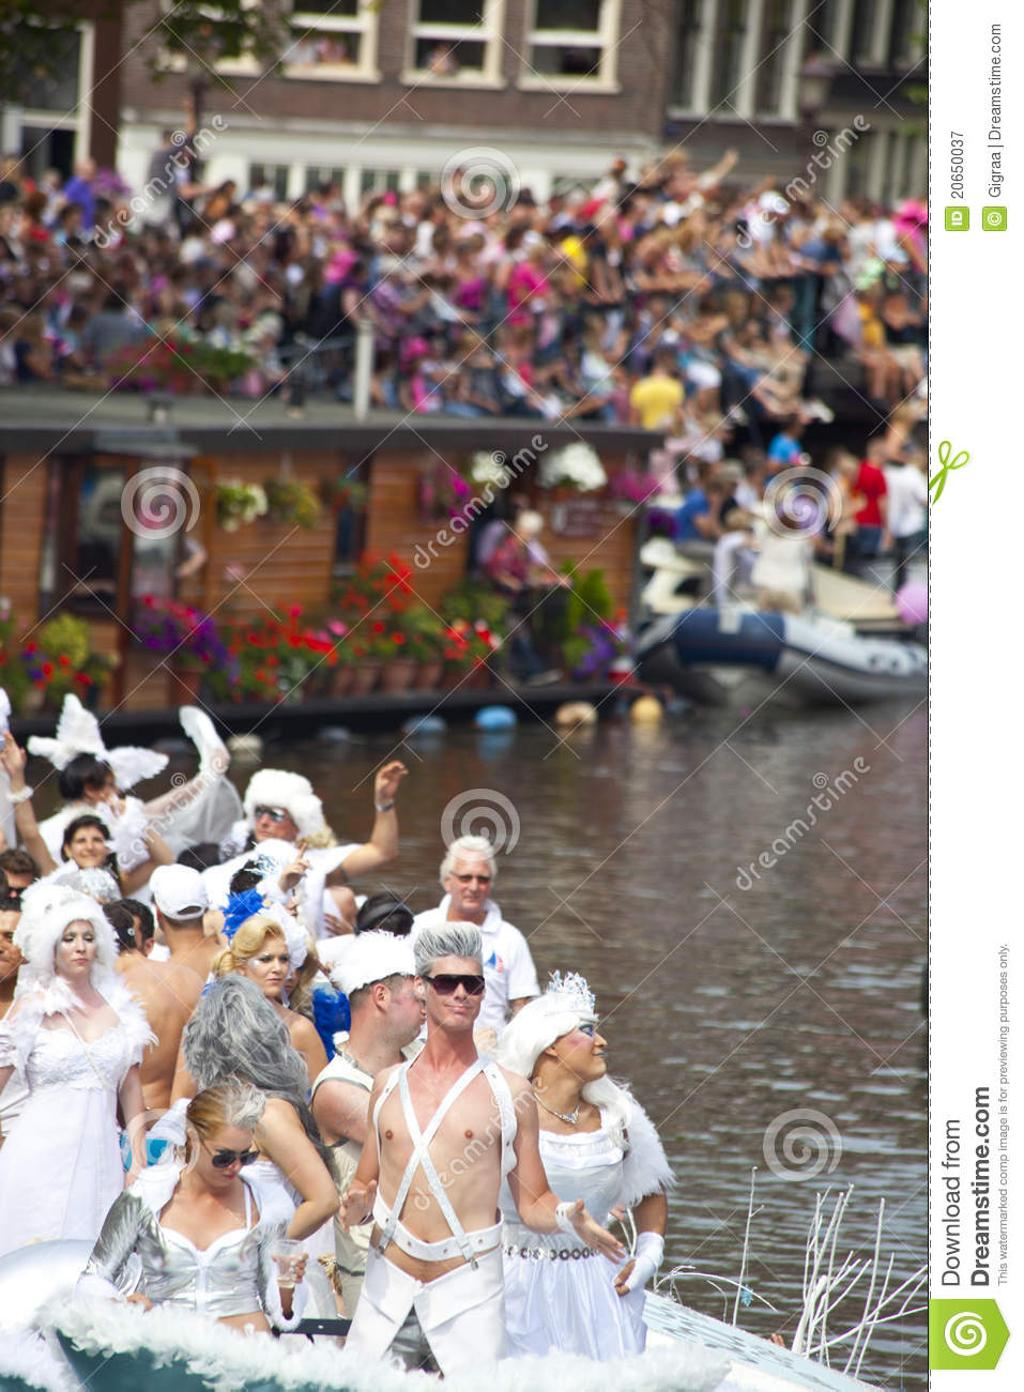face: (424, 960, 482, 1029), (548, 1015, 607, 1077), (379, 968, 428, 1039), (198, 1132, 250, 1186), (244, 937, 287, 994), (51, 920, 94, 973), (103, 917, 143, 968), (255, 796, 294, 845), (452, 865, 491, 912), (0, 914, 25, 979), (70, 829, 107, 868), (0, 871, 31, 915), (95, 771, 119, 812)
